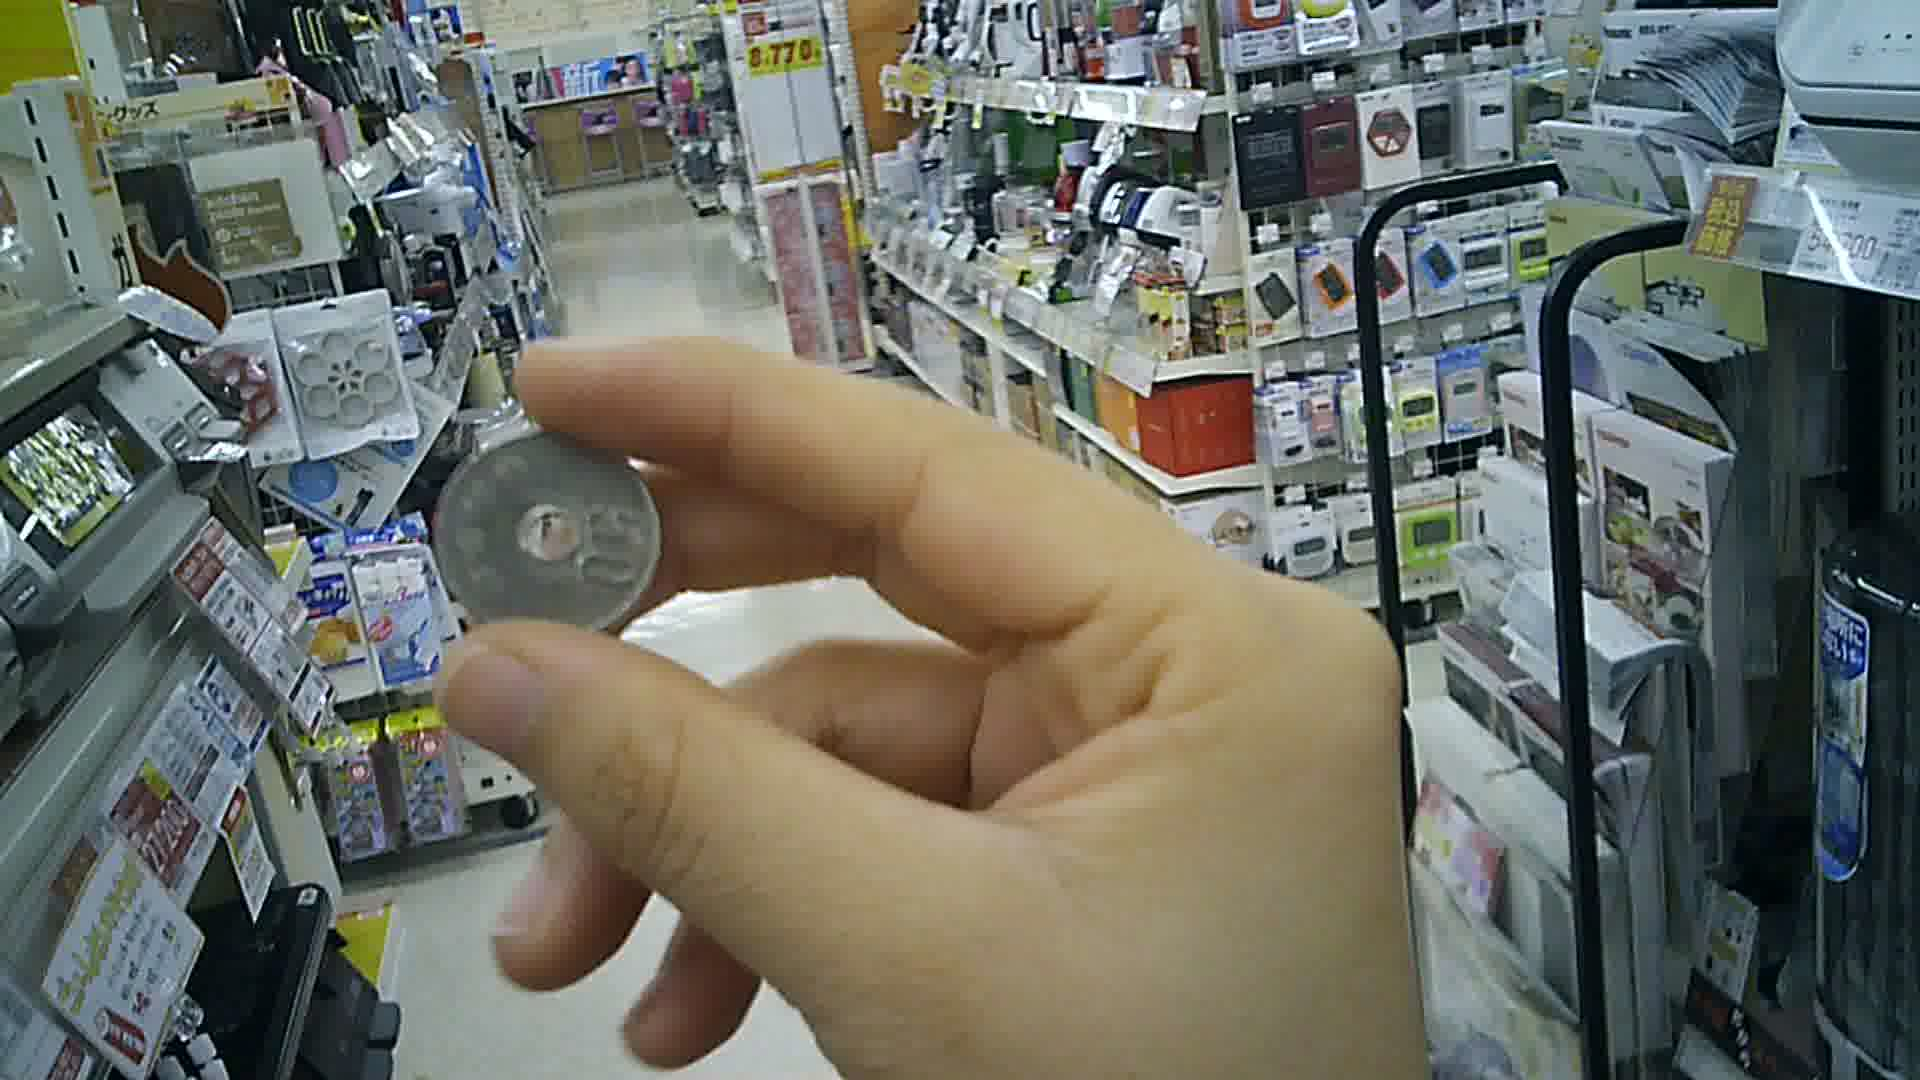50 Yen: (431, 427, 667, 659)
